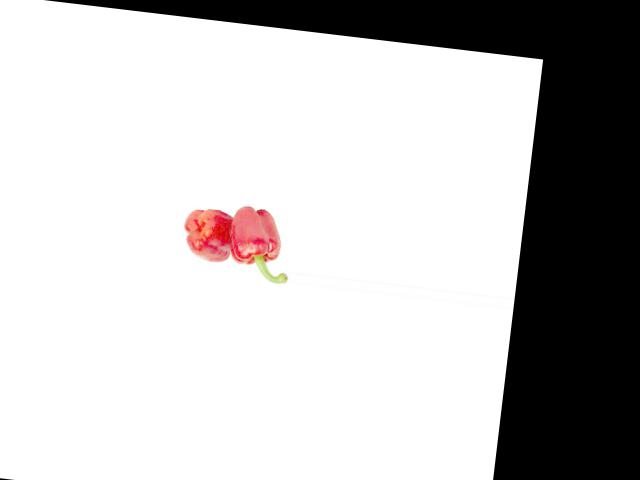bell_pepper: (180, 203, 235, 267)
